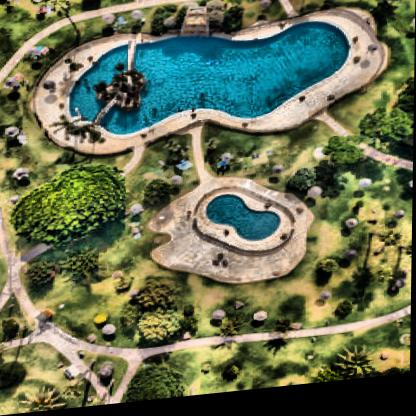tree-top: (11, 162, 126, 249), (121, 363, 191, 406), (134, 306, 187, 349), (362, 112, 414, 152), (323, 139, 367, 175), (134, 179, 178, 212), (137, 281, 176, 314), (62, 246, 106, 273), (340, 355, 381, 383), (287, 173, 319, 197), (25, 261, 58, 284), (0, 360, 26, 388), (382, 0, 416, 3)
